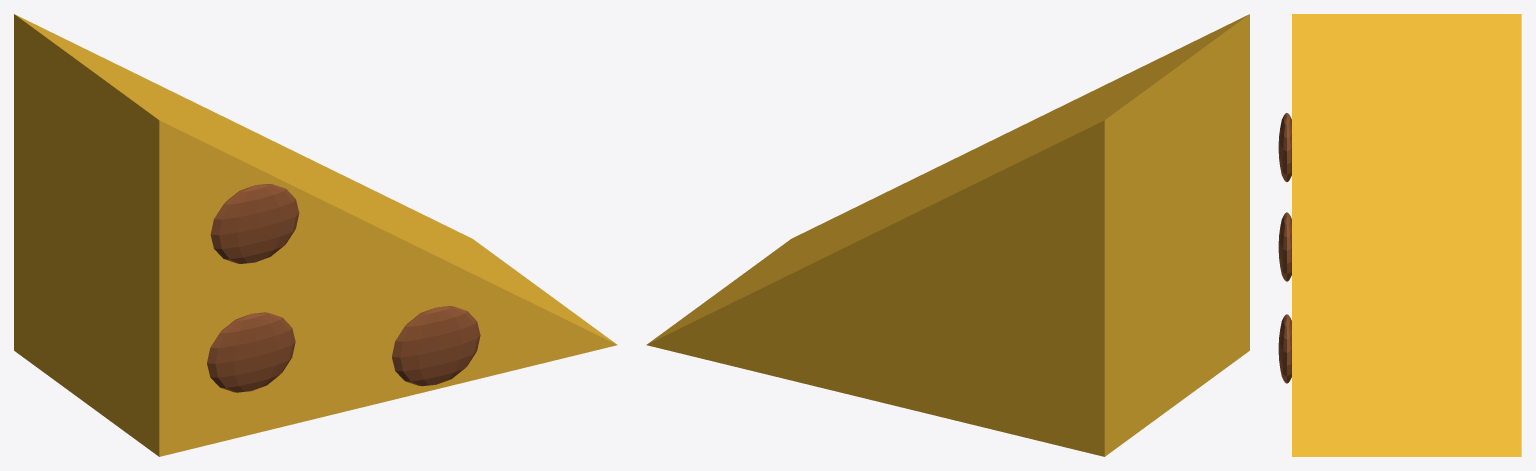
File: cheese.glb
3 views of the same model, side by side, from view 1: azimuth 30°, elevation 25°; view 2: azimuth 150°, elevation 25°; view 3: azimuth 270°, elevation 25° (orthographic). The views are drawn at different scales.
Parts seen in each view (by area): view 1: Cheese wedge, Cheese hole, Cheese hole.001, Cheese hole.002; view 2: Cheese wedge; view 3: Cheese wedge, Cheese hole, Cheese hole.002, Cheese hole.001.
Boxes of the visible parts, x1=… form: Cheese wedge: x1=14, y1=14, x2=617, y2=456; Cheese hole: x1=207, y1=312, x2=295, y2=392; Cheese hole.001: x1=210, y1=184, x2=299, y2=263; Cheese hole.002: x1=392, y1=306, x2=480, y2=386; Cheese wedge: x1=646, y1=14, x2=1249, y2=456; Cheese wedge: x1=1292, y1=14, x2=1521, y2=456; Cheese hole: x1=1278, y1=212, x2=1291, y2=281; Cheese hole.002: x1=1278, y1=314, x2=1291, y2=383; Cheese hole.001: x1=1278, y1=113, x2=1291, y2=181.
Size of the model in its own units: 1.24 by 0.87 by 0.72.
